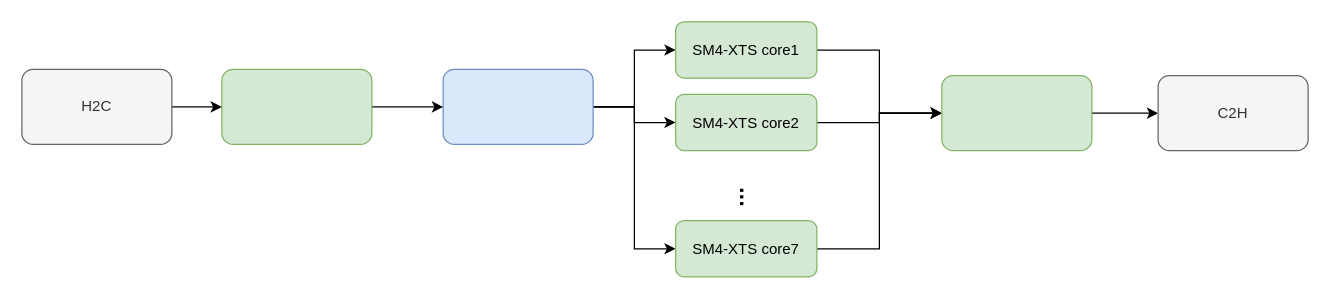
Some shapes in this 1330 by 299 pixel diagram are drawn without their labels. The shapes that lost their labels are listed below. From the top down, each one's centre as x and y in pixels, then its label:
the point at 296,106: SM4-ECB(Tweak)
the point at 517,106: AXIS-switch M1S7
the point at 1016,112: AXIS-switch S7M1
